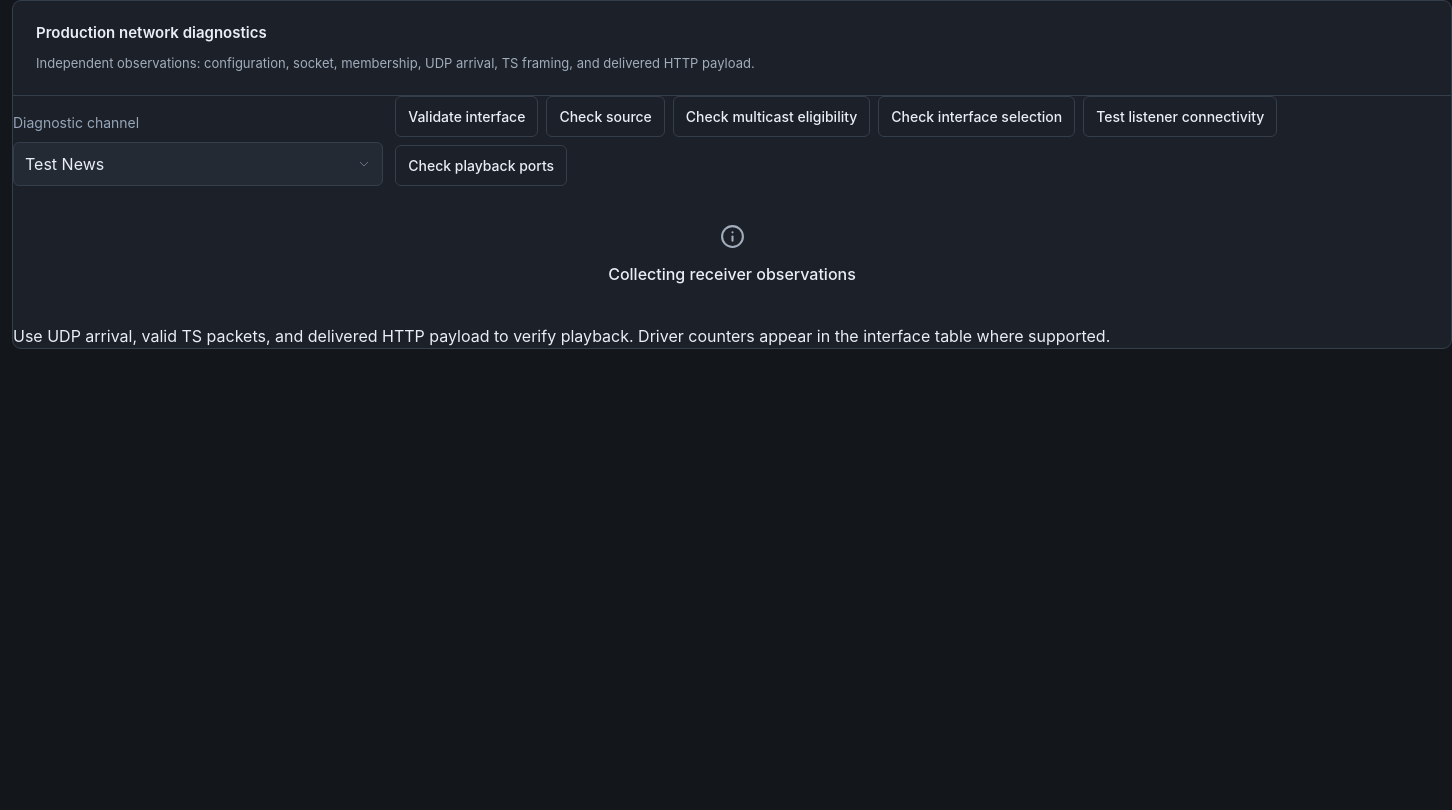
diagnostics send a channel ID and safe action without an arbitrary destination
Click the button "Check source" at (606, 116), box [546,96,665,137]
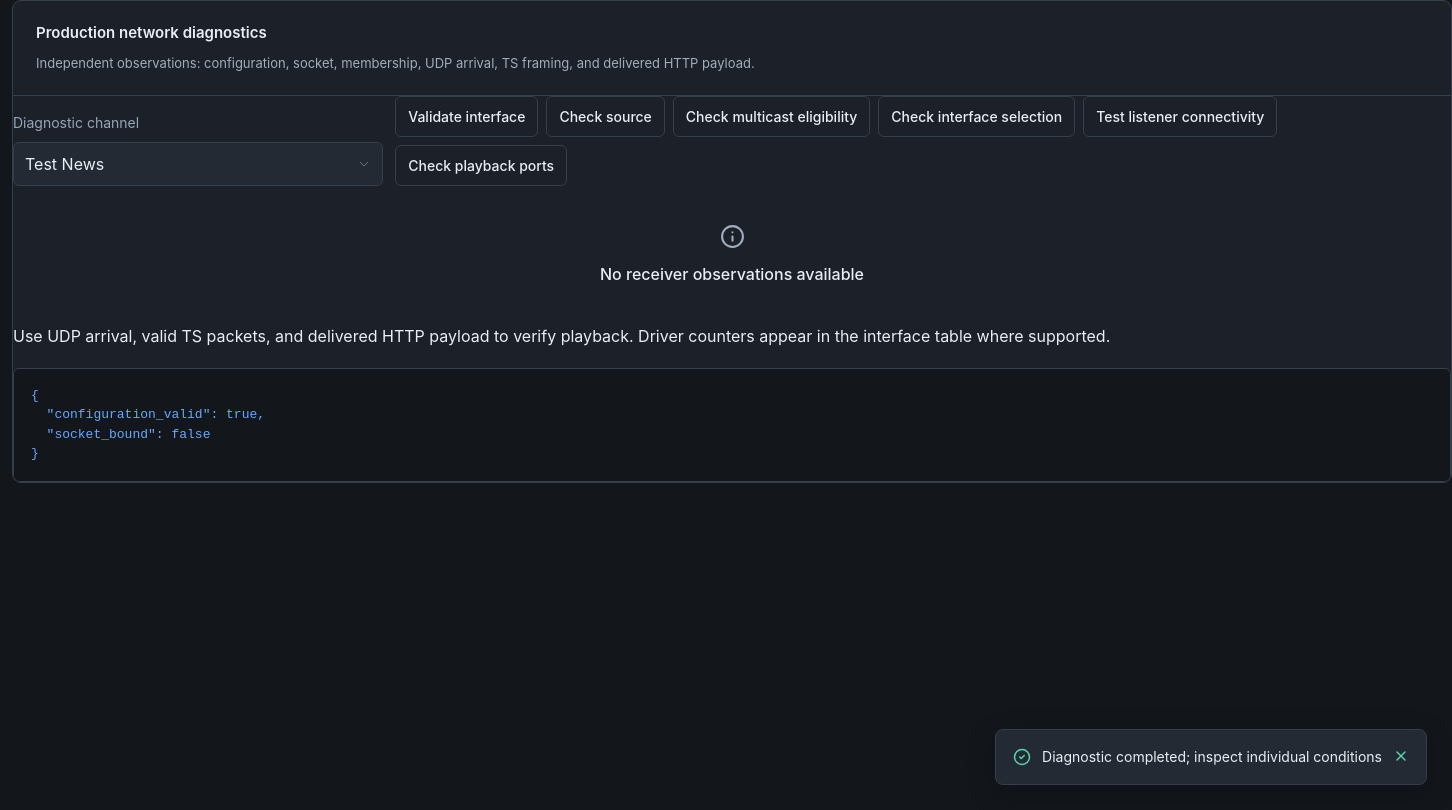
Expected: the text "{ \"configuration_valid\": true, \"socket_bound\": false }" is shown, [13,368,1451,482]
